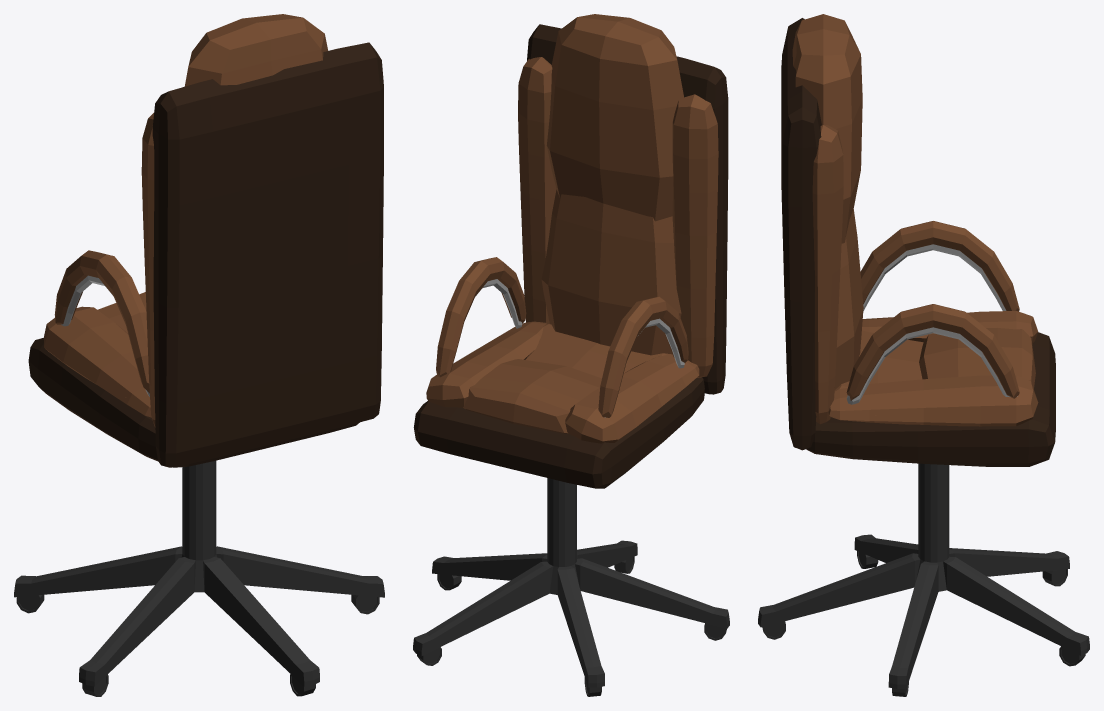
Rendered from bosschair.fbx.
3 views of the same model, side by side, from view 1: azimuth 30°, elevation 25°; view 2: azimuth 150°, elevation 25°; view 3: azimuth 270°, elevation 25° (orthographic). The views are drawn at different scales.
Visible parts, largest first — view 1: Cylinder; view 2: Cylinder; view 3: Cylinder.
Boxes of the visible parts, x1=… form: Cylinder: x1=14, y1=14, x2=384, y2=696; Cylinder: x1=413, y1=14, x2=729, y2=696; Cylinder: x1=758, y1=14, x2=1089, y2=696.
Size of the model in its own units: 89.14 by 175 by 87.93.
